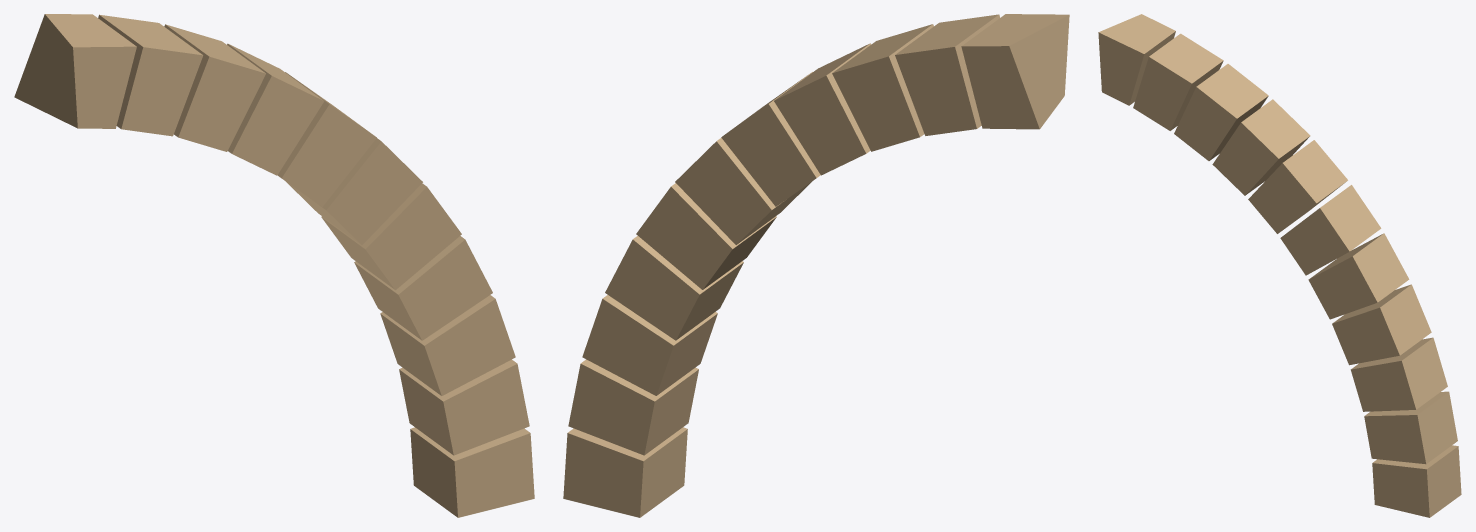
The model's file is arch_broken_a.glb.
3 renders of one model, left to right at view 1: azimuth 30°, elevation 25°; view 2: azimuth 150°, elevation 25°; view 3: azimuth 330°, elevation 25°, orthographic. The views are drawn at different scales.
Visible parts, largest first — view 1: arch_broken_a; view 2: arch_broken_a; view 3: arch_broken_a.
Boxes of the visible parts, x1=… form: arch_broken_a: x1=14, y1=14, x2=534, y2=517; arch_broken_a: x1=563, y1=14, x2=1069, y2=517; arch_broken_a: x1=1098, y1=14, x2=1461, y2=517.
Size of the model in its own units: 5.59 by 6.33 by 0.9.
